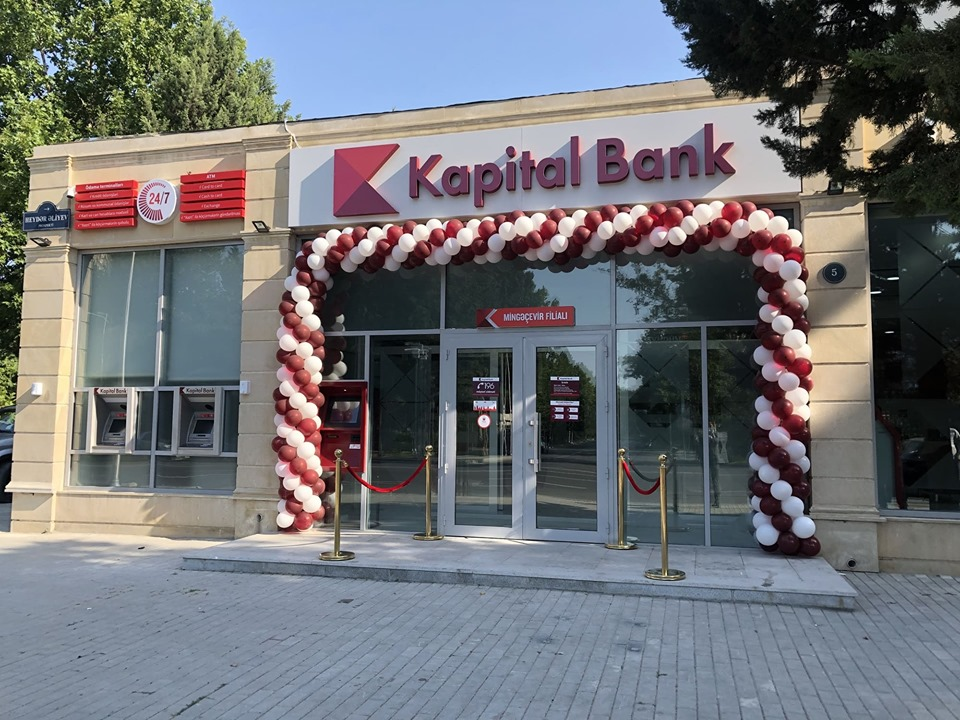Kapital Bank: (332, 141, 402, 218)
